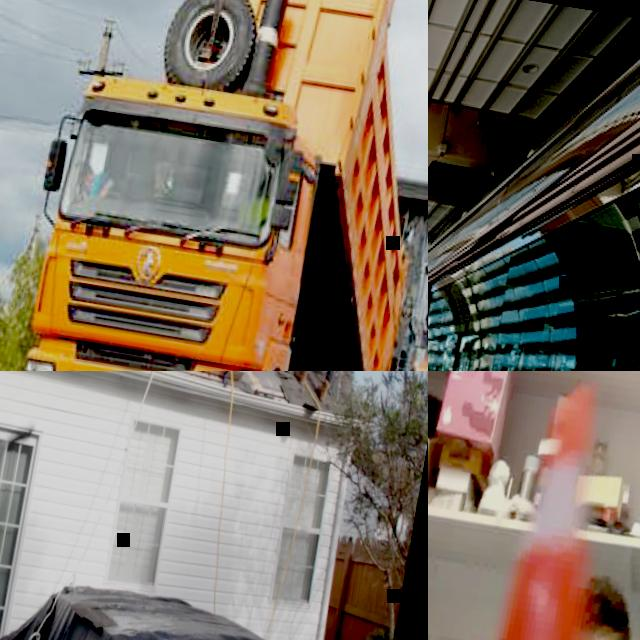NO-Hardhat: (580, 574, 640, 637)
Person: (458, 563, 640, 640), (71, 156, 123, 203), (235, 174, 275, 231)
Safety Cone: (454, 371, 640, 640)
Safety Vest: (236, 192, 274, 231), (82, 167, 112, 199)
vehicle: (0, 0, 428, 371)
